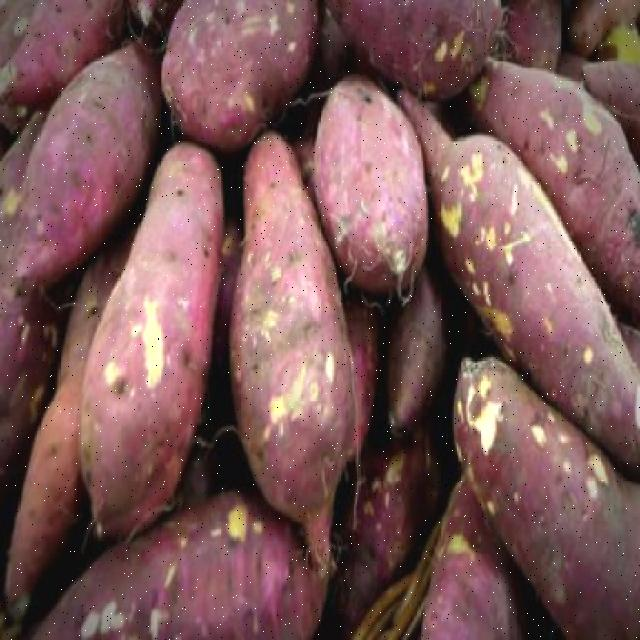Sweet Potato: (47, 103, 227, 537), (232, 116, 361, 598), (308, 72, 448, 333)
